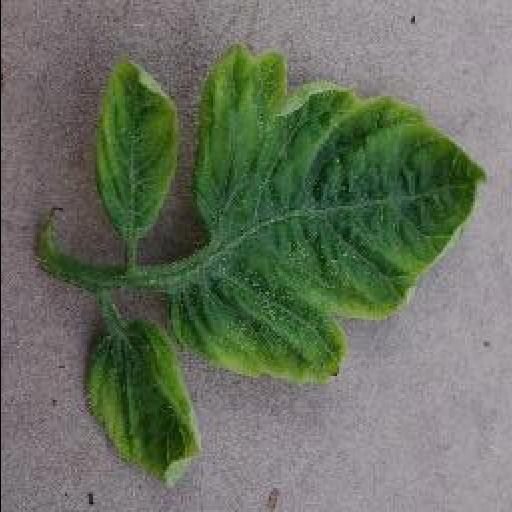disease_tomato: (164, 44, 490, 384), (86, 320, 198, 490), (95, 59, 181, 240)
